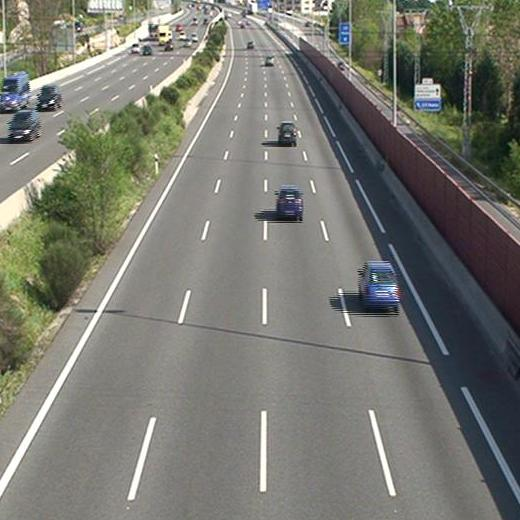car: (360, 263, 398, 307), (276, 187, 303, 216), (278, 122, 297, 145), (265, 56, 274, 66)
